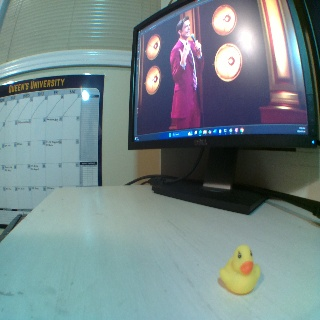duck_regular: (220, 242, 260, 295)
